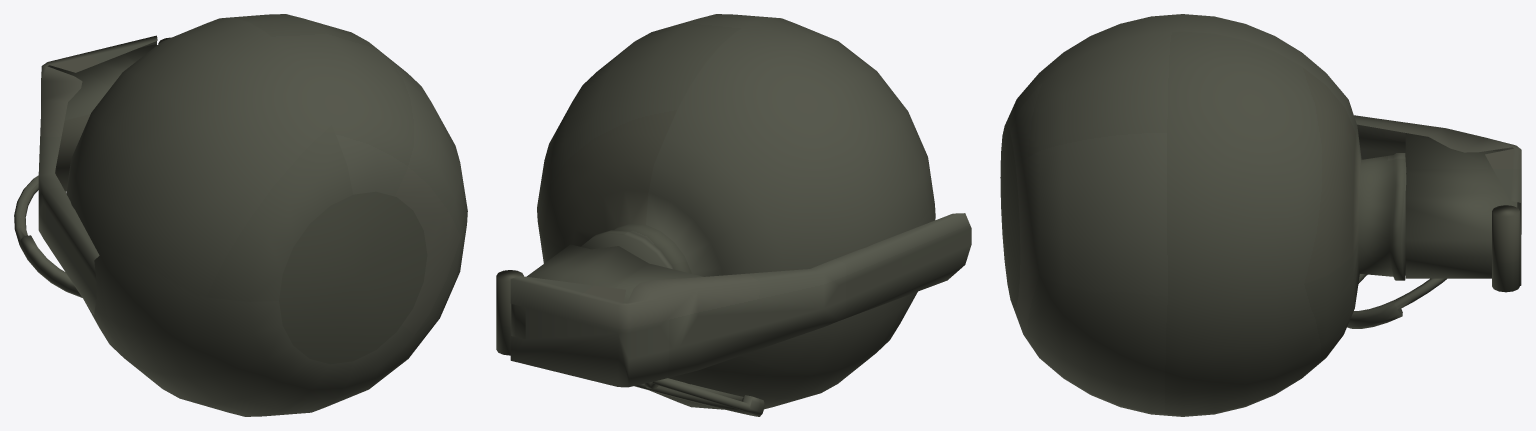
The model's file is viewmodel_m67.glb.
3 views of the same model, side by side, from view 1: azimuth 30°, elevation 25°; view 2: azimuth 150°, elevation 25°; view 3: azimuth 270°, elevation 25° (orthographic).
Visible parts, largest first — view 1: viewmodel_m67; view 2: viewmodel_m67; view 3: viewmodel_m67.
Part boxes in pixels (x1,y1,x2,y2): viewmodel_m67: [14, 14, 467, 416]; viewmodel_m67: [496, 14, 971, 416]; viewmodel_m67: [1000, 14, 1521, 416].
Bounding box in the file's own units: 0.0812 × 0.0751 × 0.0964.
1 material, 1 textured.
